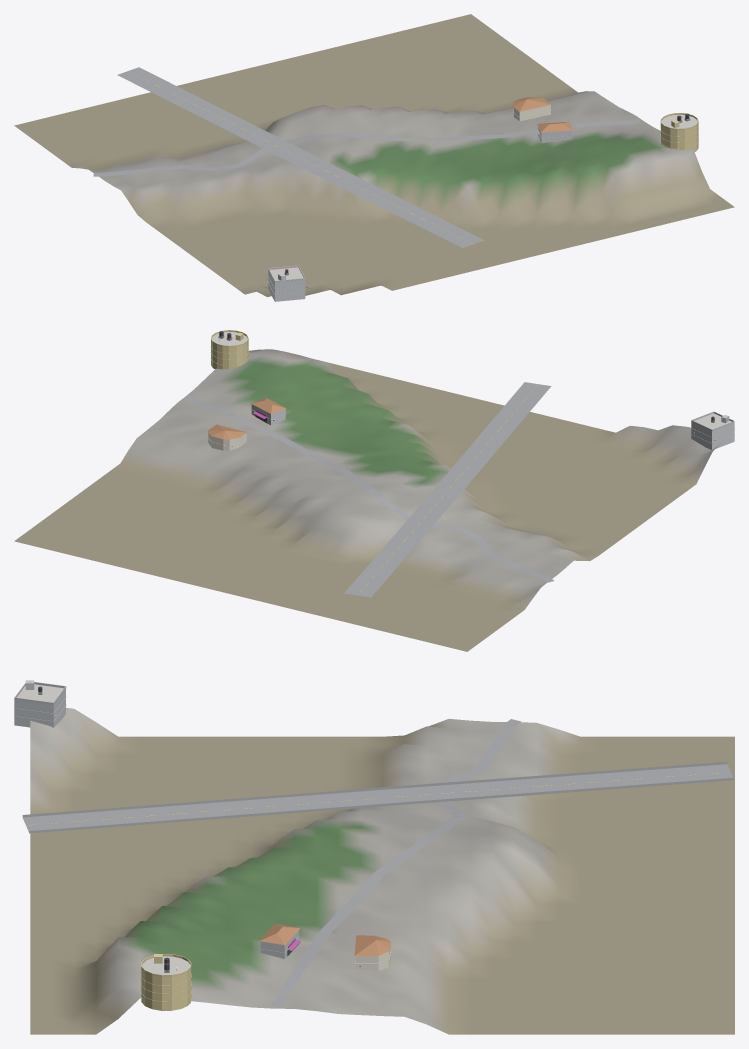
3 renders of one model, top to bottom at view 1: azimuth 30°, elevation 25°; view 2: azimuth 150°, elevation 25°; view 3: azimuth 270°, elevation 25°, orthographic. The views are drawn at different scales.
Parts seen in each view (by area): view 1: Terrain-col, Roads-col, Buildings-col, Details; view 2: Terrain-col, Roads-col, Buildings-col, Details; view 3: Terrain-col, Roads-col, Buildings-col, Details.
Part boxes in pixels (x1,y1,x2,y2): Terrain-col: [14, 14, 734, 296]; Roads-col: [93, 67, 640, 247]; Buildings-col: [268, 97, 698, 301]; Details: [268, 110, 698, 295]; Terrain-col: [14, 349, 721, 651]; Roads-col: [184, 382, 554, 597]; Buildings-col: [208, 332, 734, 450]; Details: [208, 330, 734, 447]; Terrain-col: [30, 707, 734, 1034]; Roads-col: [22, 719, 733, 1006]; Buildings-col: [14, 684, 391, 1010]; Details: [14, 680, 390, 1002].
Bounding box in the file's own units: 265 × 29.4 × 262.
